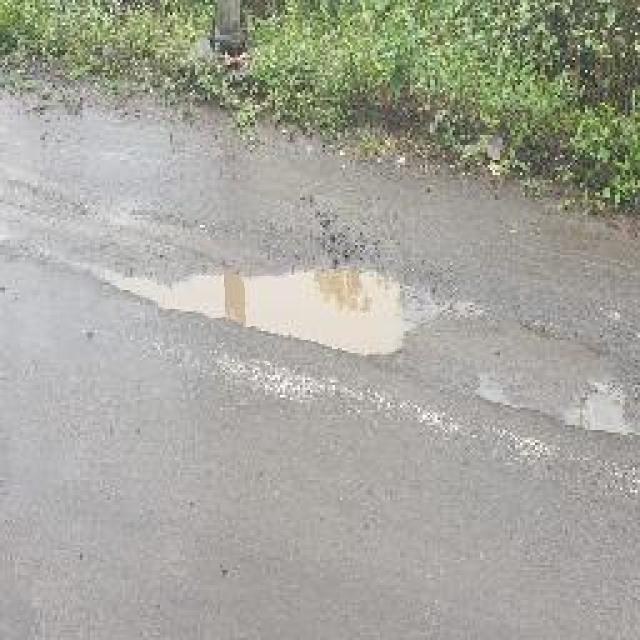puddle: (158, 265, 432, 366)
